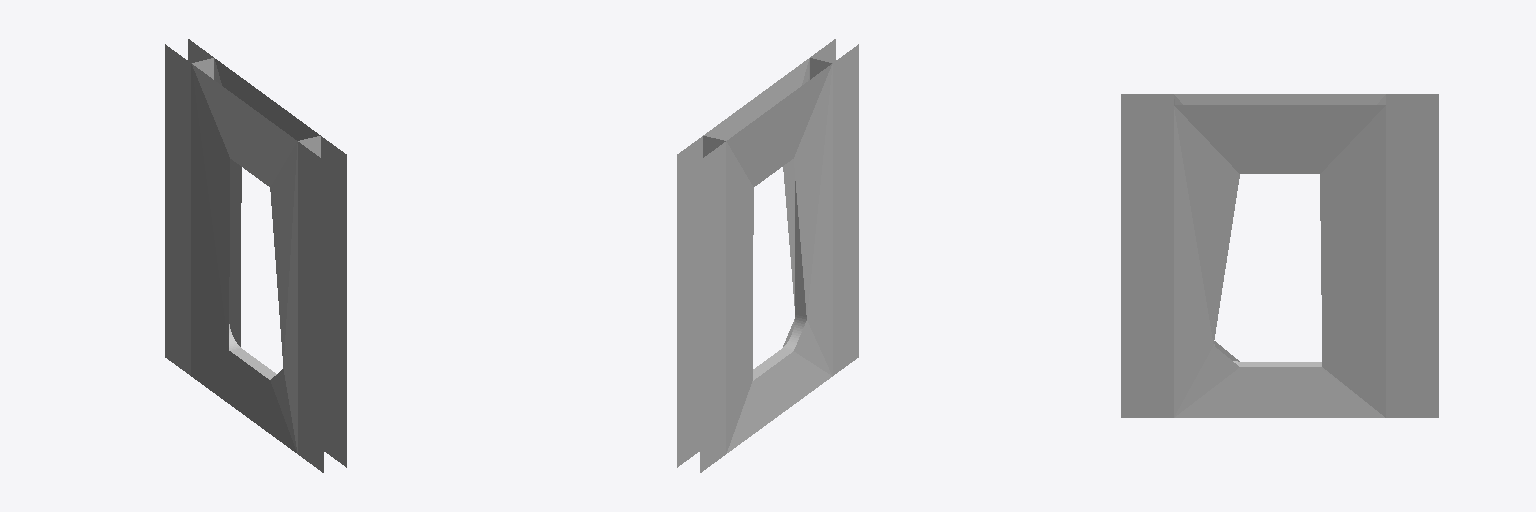
File: Door.obj
3 views of the same model, side by side, from view 1: azimuth 30°, elevation 25°; view 2: azimuth 150°, elevation 25°; view 3: azimuth 270°, elevation 25° (orthographic).
Visible parts, largest first — view 1: Circle.002_Circle.004, Cube.168_Cube.098; view 2: Circle.002_Circle.004, Cube.168_Cube.098; view 3: Circle.002_Circle.004, Cube.168_Cube.098.
Boxes of the visible parts, <box> form: Circle.002_Circle.004: <box>191,58,320,453</box>; Cube.168_Cube.098: <box>165,39,346,472</box>; Circle.002_Circle.004: <box>703,58,832,453</box>; Cube.168_Cube.098: <box>677,39,858,472</box>; Circle.002_Circle.004: <box>1174,94,1385,417</box>; Cube.168_Cube.098: <box>1121,94,1438,417</box>.
Bounding box in the file's own units: 1 × 13 × 12.